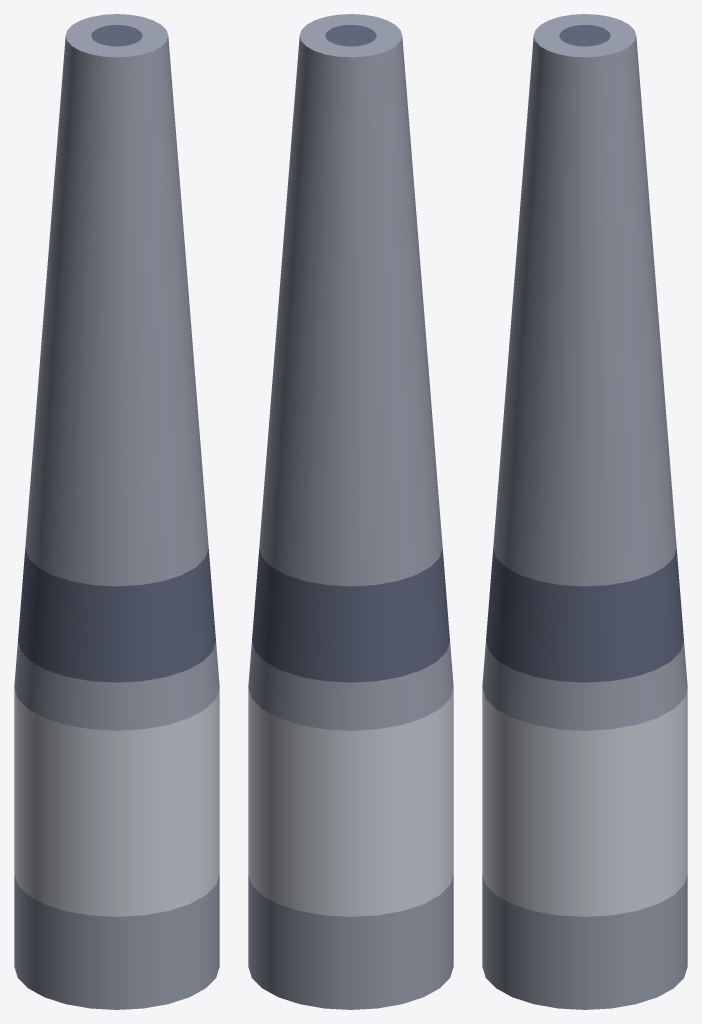
The model's file is chimney_detailed.glb.
3 renders of one model, left to right at view 1: azimuth 30°, elevation 25°; view 2: azimuth 150°, elevation 25°; view 3: azimuth 270°, elevation 25°, orthographic.
Parts seen in each view (by area): view 1: chimney_detailed; view 2: chimney_detailed; view 3: chimney_detailed.
Boxes of the visible parts, x1,y1,x2,y2 form: chimney_detailed: (14,14,219,1009); chimney_detailed: (248,14,453,1009); chimney_detailed: (482,14,687,1009).
Size of the model in its own units: 0.4 by 2 by 0.4.
